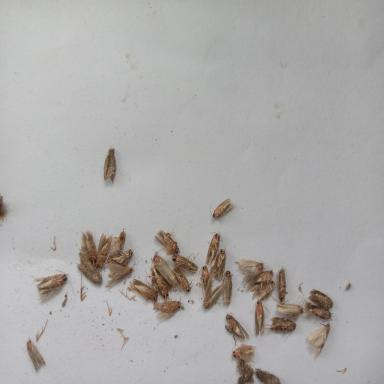pbw: (34, 269, 72, 301), (150, 247, 178, 288), (235, 258, 266, 290), (304, 323, 330, 356), (76, 252, 102, 285), (104, 260, 134, 287), (152, 295, 184, 320), (25, 336, 46, 374), (129, 277, 159, 303), (264, 316, 298, 338), (202, 274, 224, 308), (302, 301, 334, 324), (80, 227, 98, 266), (153, 228, 179, 255), (252, 280, 279, 306), (208, 197, 236, 222), (96, 232, 112, 274), (226, 312, 250, 340), (151, 265, 170, 300), (106, 248, 139, 268), (171, 263, 191, 294), (172, 252, 200, 274), (250, 299, 266, 337), (103, 145, 118, 185), (206, 230, 222, 266), (209, 248, 227, 280), (308, 287, 334, 309), (275, 265, 289, 304), (230, 344, 256, 363), (254, 367, 282, 384), (109, 230, 126, 257), (276, 301, 304, 316), (223, 270, 234, 307), (254, 268, 275, 286), (201, 265, 208, 296)
